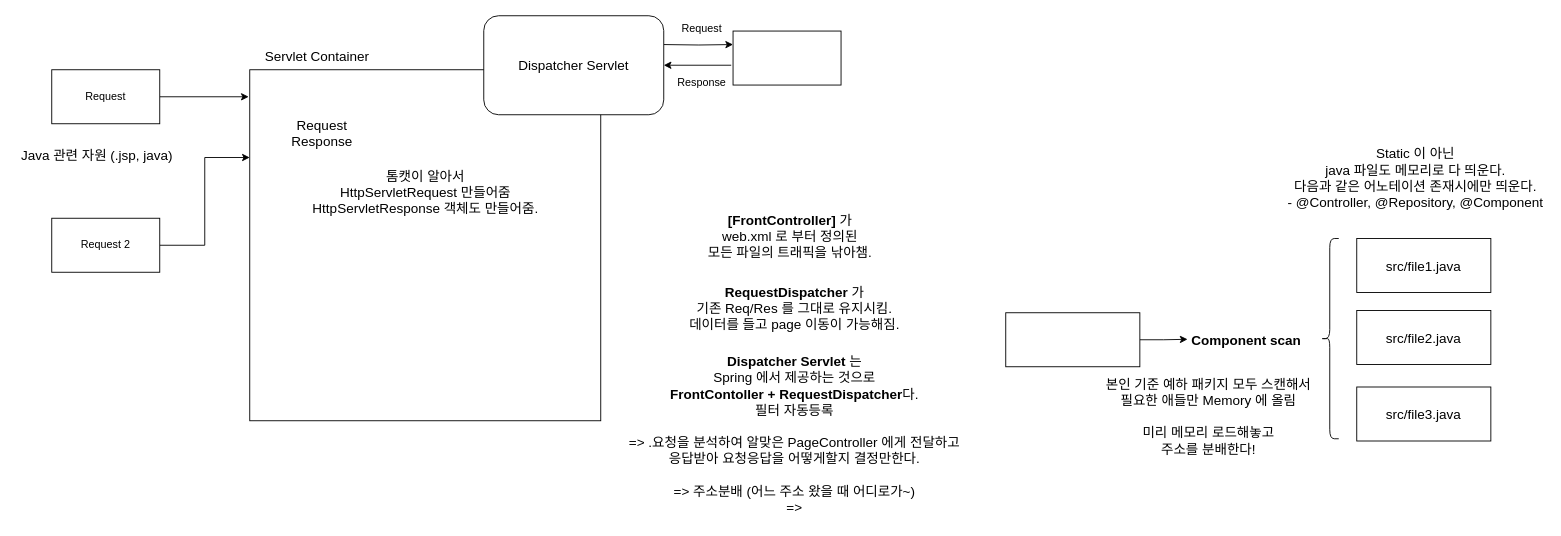
Image size: 1561x536. Some labels were removed from this diagram. The centre of each missing label's shape, as x and y in pixels:
DispatcherServlet: point 1072,339
Handler mapping: point 786,57
